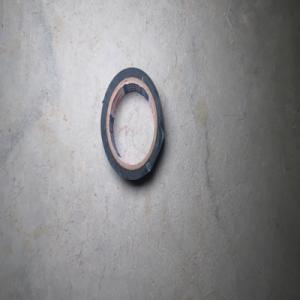Tape: (100, 67, 165, 186)
